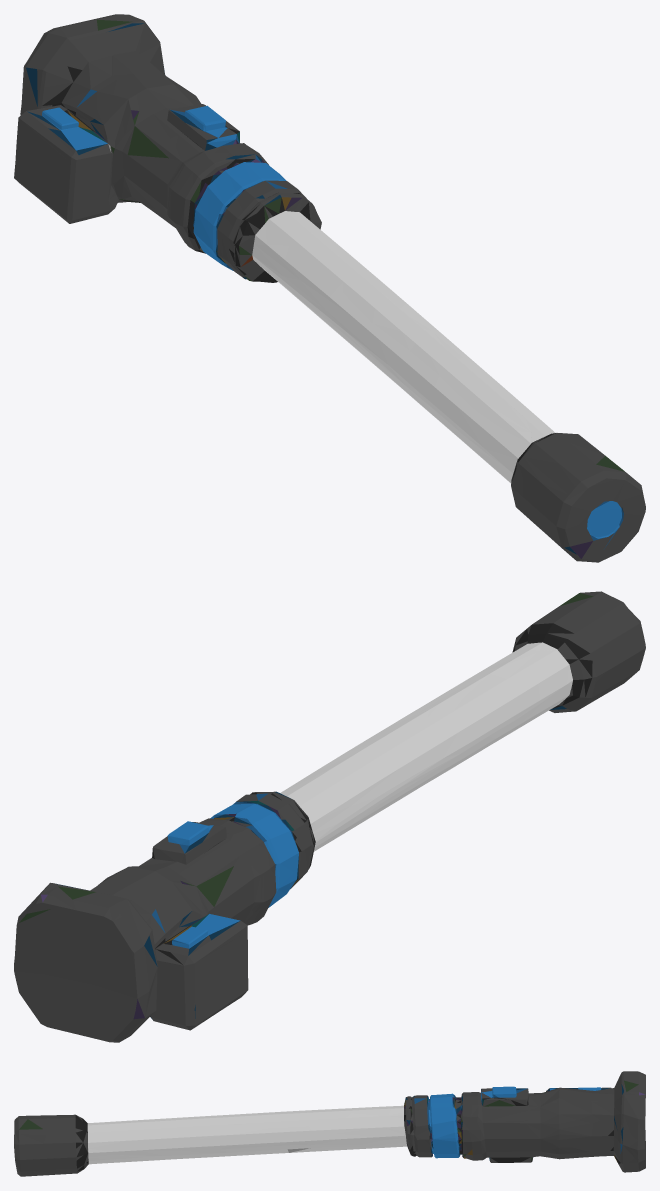
File: aki_baton.glb
The picture shows the model from 3 angles, top to bottom: view 1: azimuth 30°, elevation 25°; view 2: azimuth 150°, elevation 25°; view 3: azimuth 270°, elevation 25°; orthographic projection. The views are drawn at different scales.
Visible parts, largest first — view 1: node_0; view 2: node_0; view 3: node_0.
Boxes of the visible parts, left/top/right/bottom form: node_0: left=14, top=14, right=645, bottom=562; node_0: left=14, top=591, right=645, bottom=1042; node_0: left=14, top=1071, right=645, bottom=1176.
Bounding box in the file's own units: 0.1787 × 0.1659 × 1.
